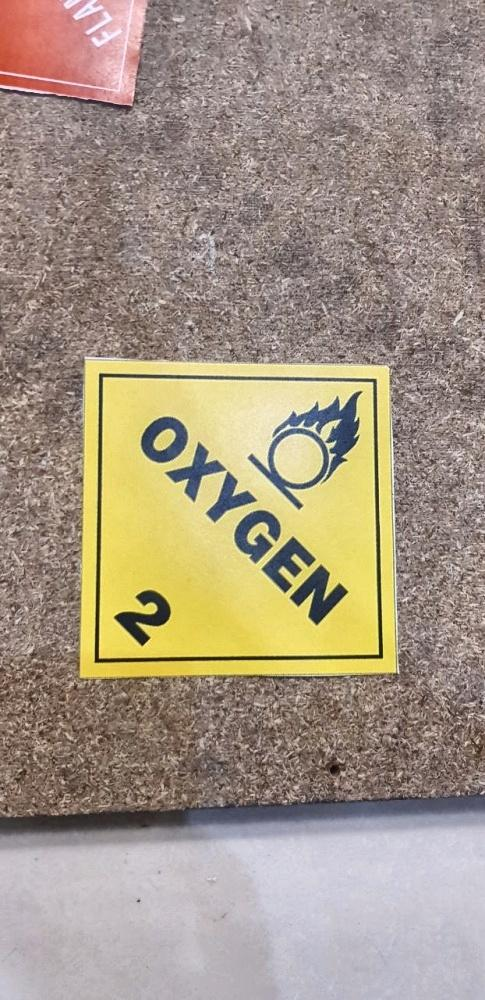oxidizer: (83, 363, 393, 677)
